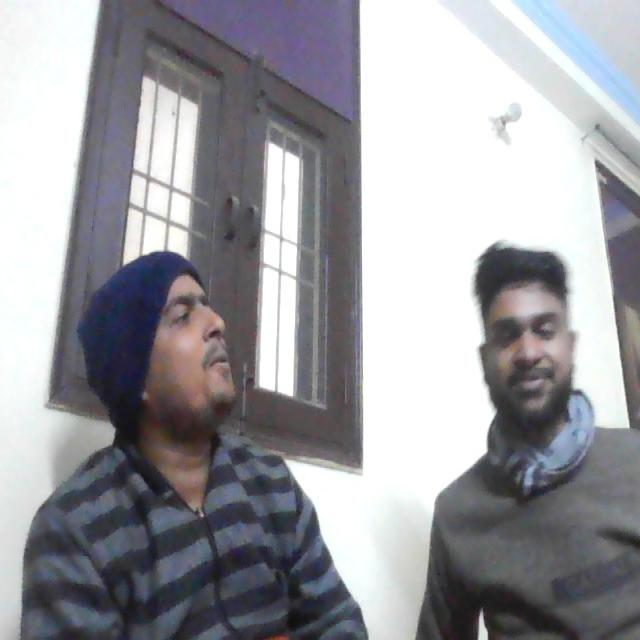real: (128, 205, 250, 436), (472, 231, 578, 432)
